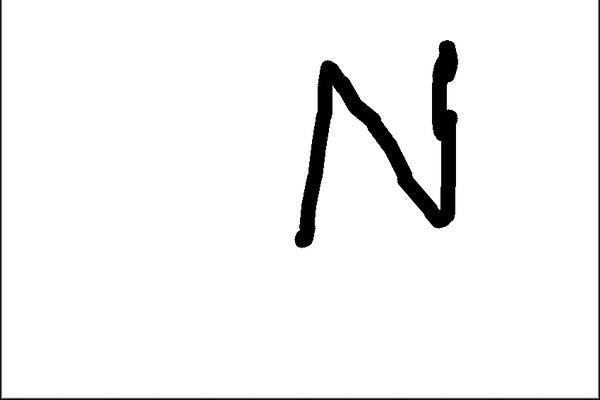N: (287, 32, 464, 252)
